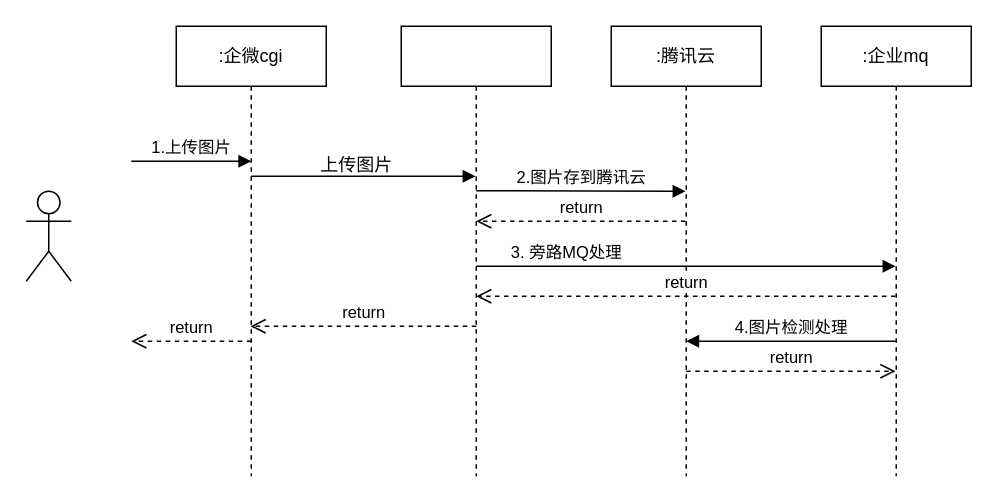
This 998x503 diagram has some shape labels left out. Here are the shapes that lost their labels. From the top down, the centre of each, then its label:
At (48,235): "Actor".
At (475,250): ":企微 svr".
